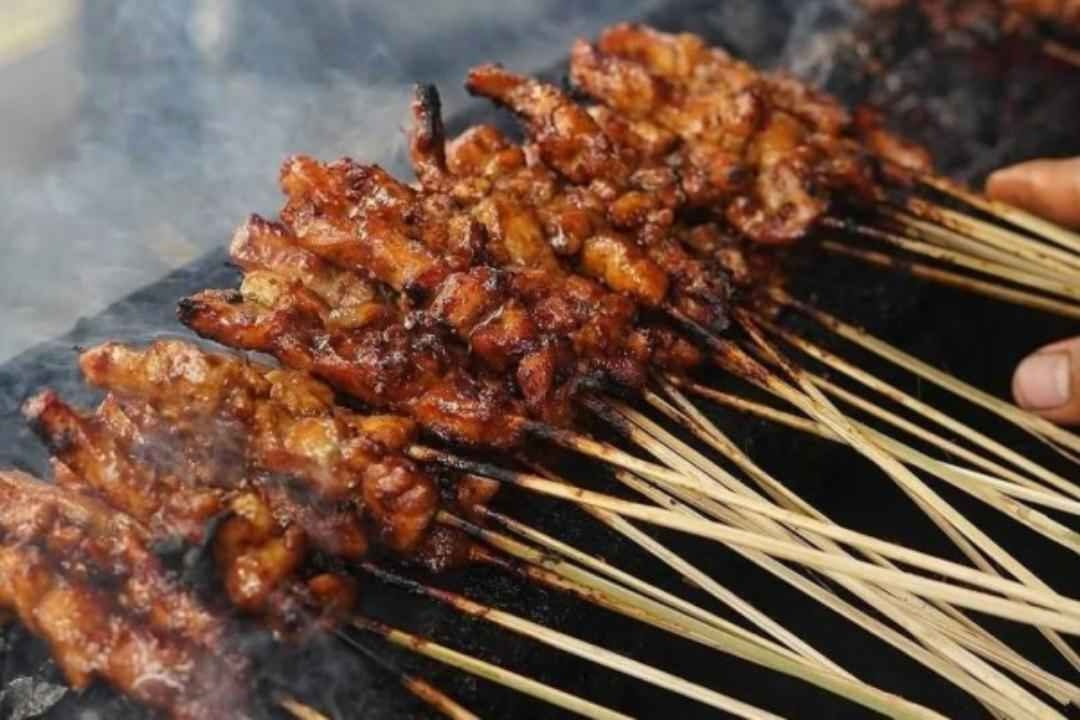sate_madura: (6, 22, 975, 720)
